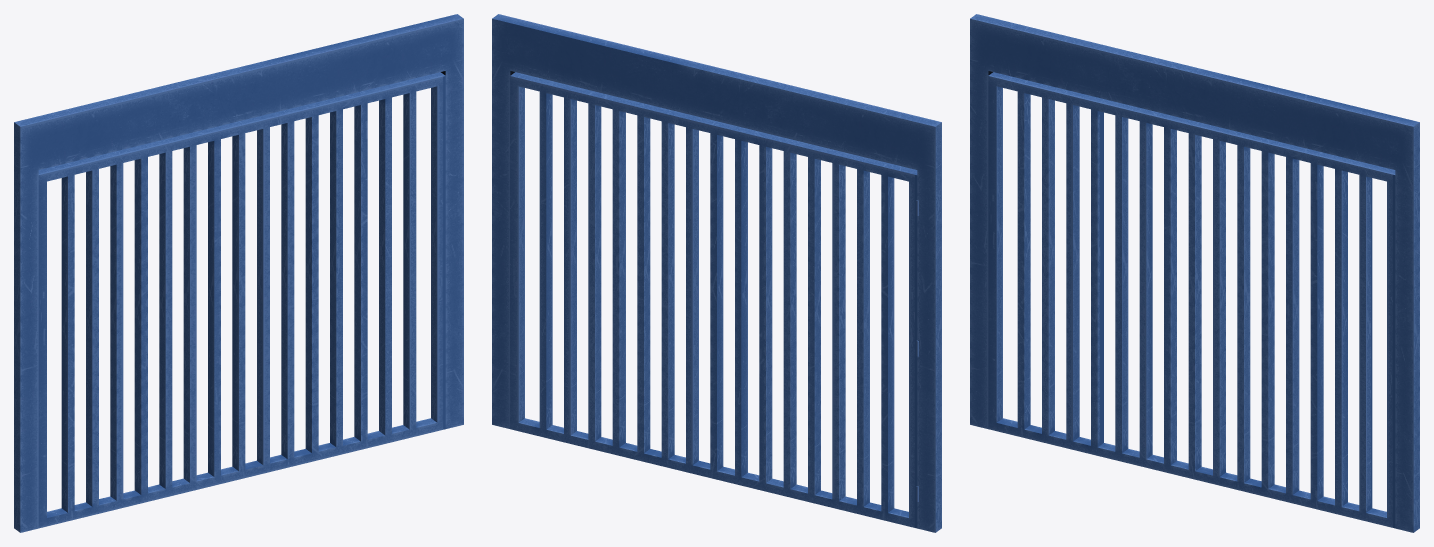
Rendered from Reja interna.FBX.
3 renders of one model, left to right at view 1: azimuth 30°, elevation 25°; view 2: azimuth 150°, elevation 25°; view 3: azimuth 330°, elevation 25°, orthographic.
Visible parts, largest first — view 1: reja_interna, Marco_reja_interna; view 2: reja_interna, Marco_reja_interna; view 3: reja_interna, Marco_reja_interna.
Boxes of the visible parts, left/top/right/bottom form: reja_interna: left=38, top=72, right=445, bottom=528; Marco_reja_interna: left=14, top=14, right=463, bottom=532; reja_interna: left=510, top=72, right=918, bottom=528; Marco_reja_interna: left=492, top=14, right=941, bottom=532; reja_interna: left=988, top=72, right=1395, bottom=528; Marco_reja_interna: left=970, top=14, right=1419, bottom=532.
Size of the model in its own units: 400 by 350 by 10.78.
1 material, 1 textured.
